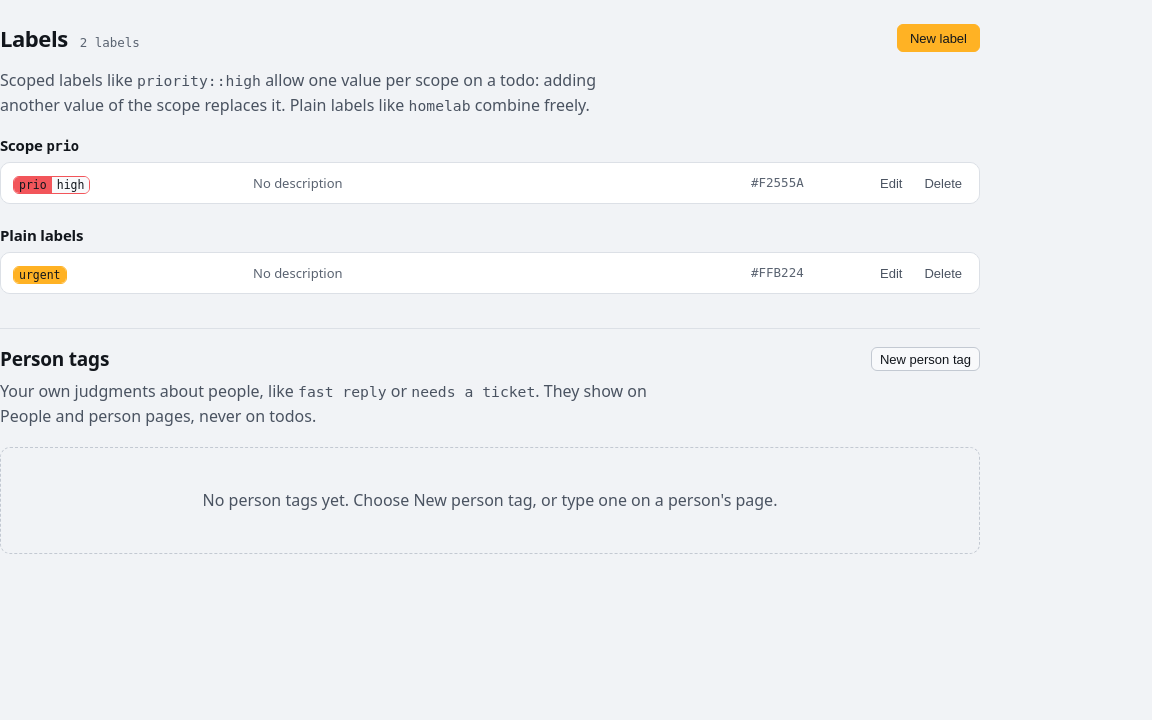
Test: label rename into a used scope › goes back to the form on Cancel without a second request
The width and height of the screenshot is (1152, 720).
Click the button "Edit" in the row of "urgent": (891, 273) 871,261 -> 911,285
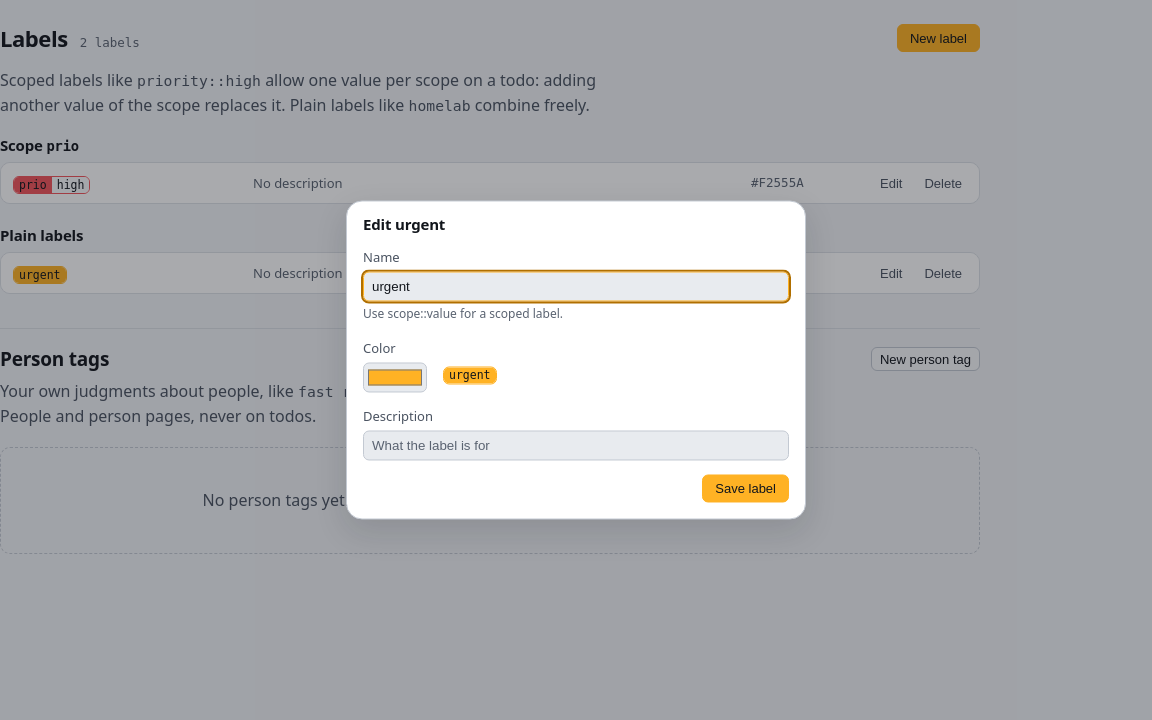
Replace the text in the field labelled "Name Use scope::value for a scoped label." with "prio::urgent": (576, 287) 363,272 -> 789,302
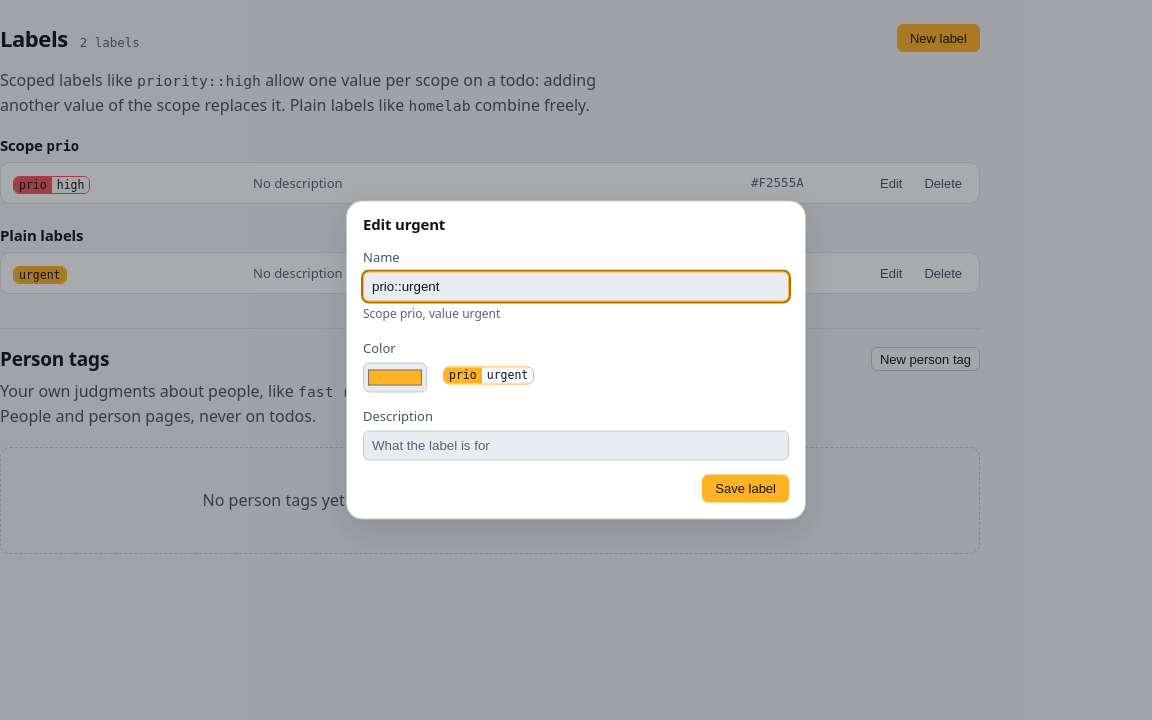
Click the button "Save label": (746, 488) 702,474 -> 789,502
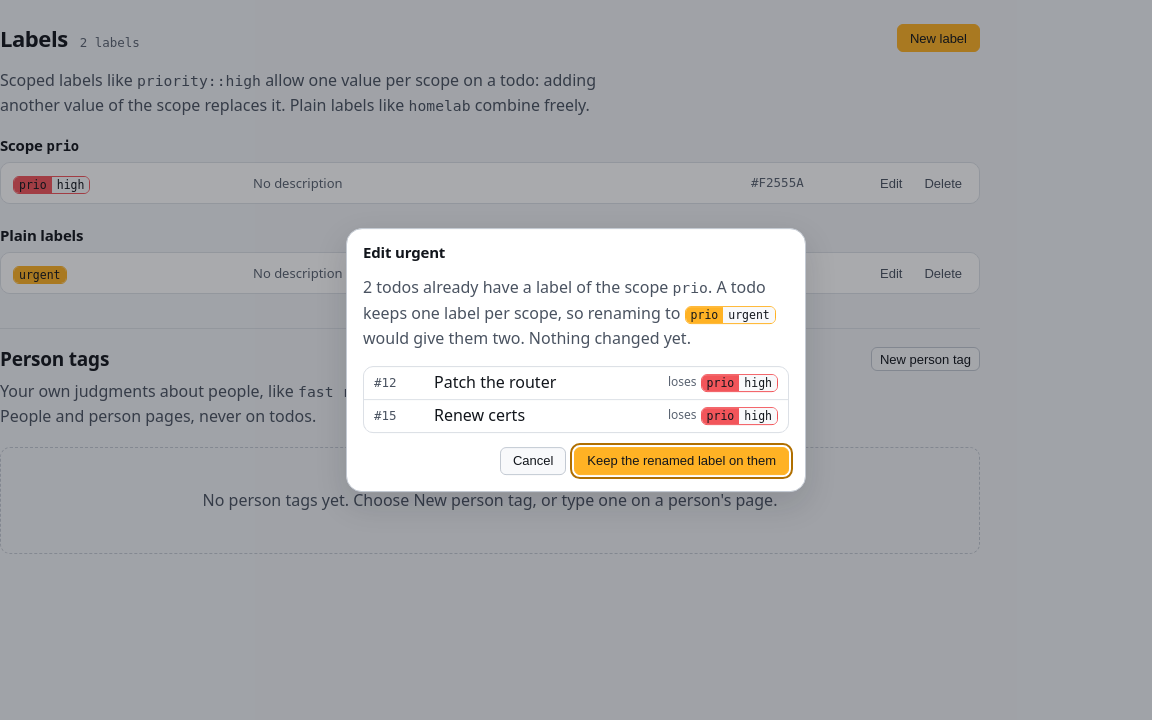
Click the button "Cancel": (533, 461) 500,447 -> 566,475
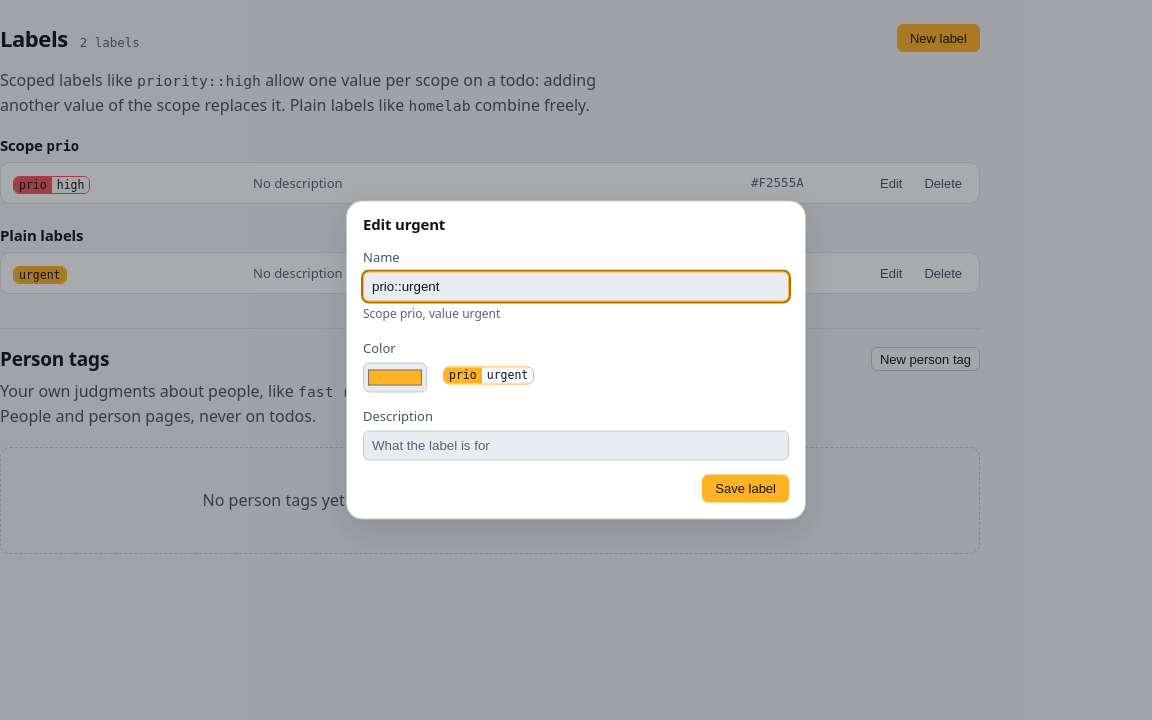
expect the button "Save label" is shown: met, box 702,474 -> 789,502
expect the field labelled "Name Scope prio, value urgent" holds "prio::urgent": met, box 363,272 -> 789,302
